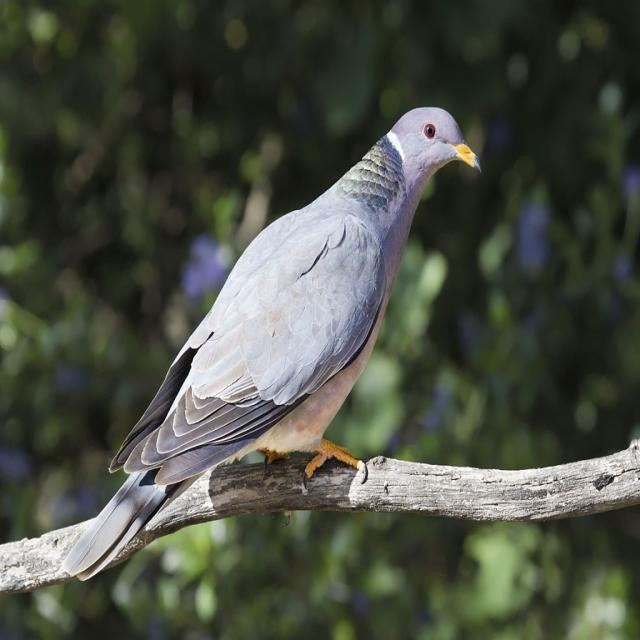bird: (62, 93, 510, 594)
